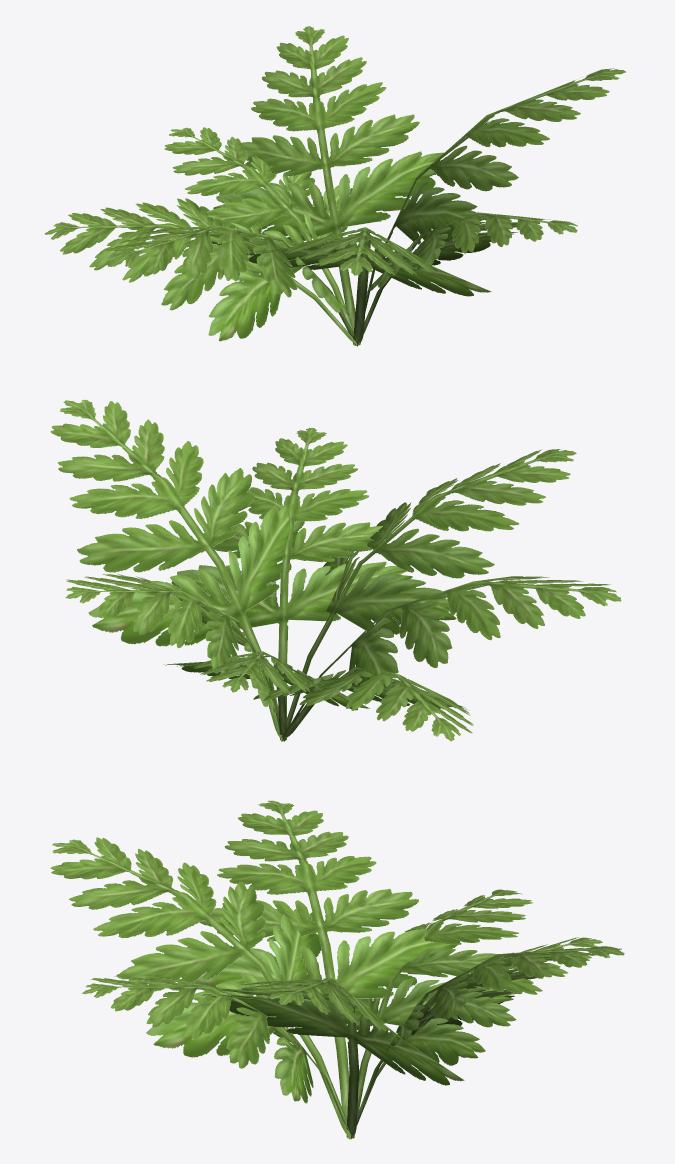
The model's file is plant.fbx.
3 renders of one model, top to bottom at view 1: azimuth 30°, elevation 25°; view 2: azimuth 150°, elevation 25°; view 3: azimuth 270°, elevation 25°, orthographic. The views are drawn at different scales.
Parts seen in each view (by area): view 1: plant; view 2: plant; view 3: plant.
Part boxes in pixels (x1,y1,x2,y2): plant: [44, 26, 625, 346]; plant: [50, 399, 621, 741]; plant: [50, 800, 624, 1139].
Size of the model in its own units: 5.07 by 2.04 by 4.51.
